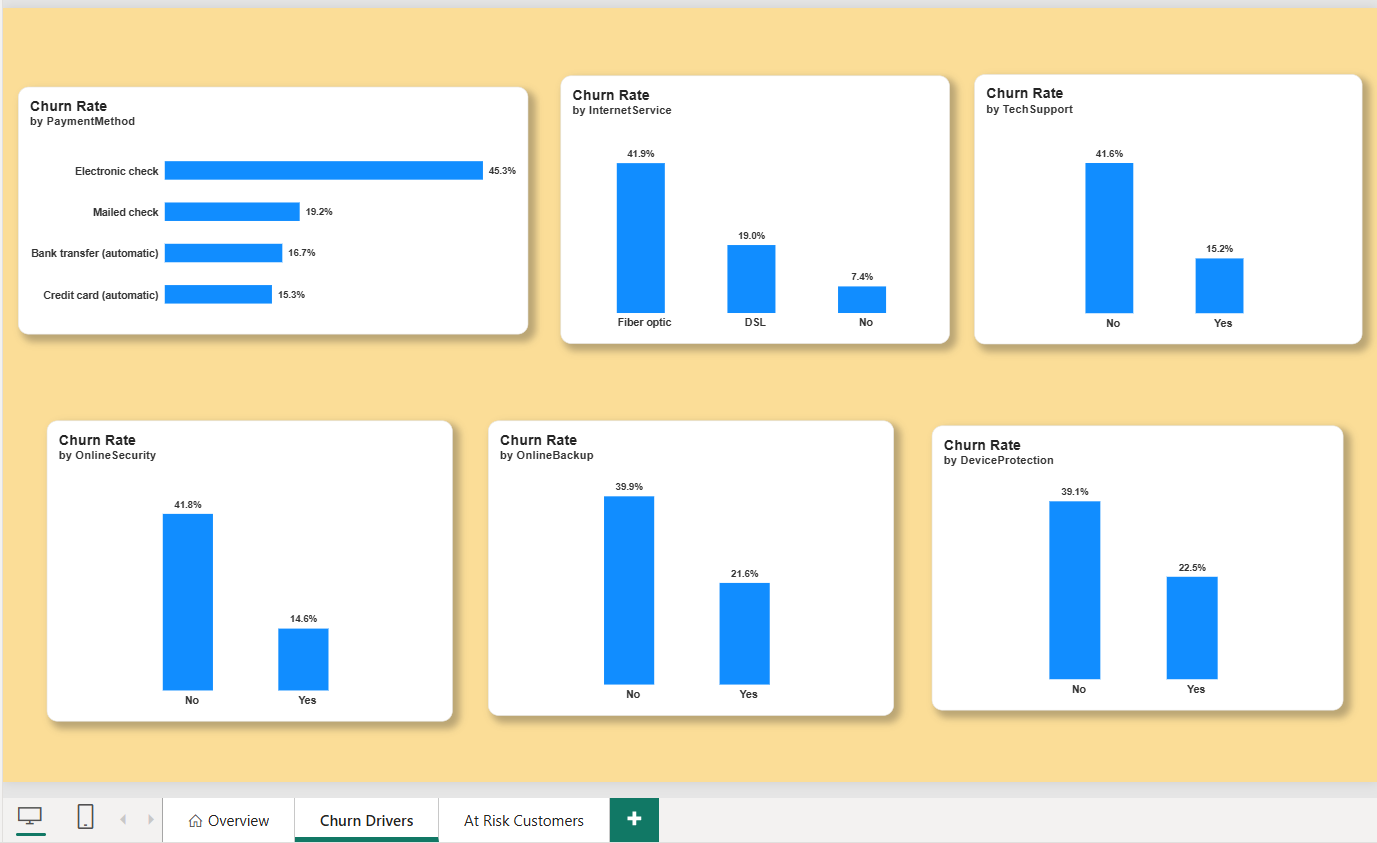

The page's visual inventory and layout, read from the dashboard file:
{"tool":"powerbi","page":{"name":"Churn Drivers","canvas":[1920,1080],"ordinal":1},"visuals":[{"type":"clusteredColumnChart","fields":{"Y":["Churn_risk.Churn Rate"],"Category":["Churn_risk.InternetService"]},"box":[778,94.7,543.4,374.6],"z":0},{"type":"clusteredColumnChart","fields":{"Category":["Churn_risk.TechSupport"],"Y":["Churn_risk.Churn Rate"]},"box":[1354.4,92.6,541.3,376.7],"z":1000},{"type":"clusteredBarChart","fields":{"Category":["Churn_risk.PaymentMethod"],"Y":["Churn_risk.Churn Rate"]},"box":[20.6,109.1,712.2,345.8],"z":2000},{"type":"clusteredColumnChart","fields":{"Y":["Churn_risk.Churn Rate"],"Category":["Churn_risk.OnlineSecurity"]},"box":[61.7,576.3,566,419.9],"z":3000},{"type":"clusteredColumnChart","fields":{"Y":["Churn_risk.Churn Rate"],"Category":["Churn_risk.DeviceProtection"]},"box":[1296.7,582.5,574.3,397.3],"z":4000},{"type":"clusteredColumnChart","fields":{"Y":["Churn_risk.Churn Rate"],"Category":["Churn_risk.OnlineBackup"]},"box":[677.2,576.3,566,411.7],"z":5000}]}

Visuals, with their boxes on the page's 1920x1080 design canvas (x1, y1, x2, y2). These are canvas units, not pixel positions in the 1377x843 screenshot, which may show the page scaled, cropped or inside an application window:
clusteredColumnChart - Churn_risk.Churn Rate x Churn_risk.InternetService: 778,95,1321,469
clusteredColumnChart - Churn_risk.TechSupport x Churn_risk.Churn Rate: 1354,93,1896,469
clusteredBarChart - Churn_risk.PaymentMethod x Churn_risk.Churn Rate: 21,109,733,455
clusteredColumnChart - Churn_risk.Churn Rate x Churn_risk.OnlineSecurity: 62,576,628,996
clusteredColumnChart - Churn_risk.Churn Rate x Churn_risk.DeviceProtection: 1297,582,1871,980
clusteredColumnChart - Churn_risk.Churn Rate x Churn_risk.OnlineBackup: 677,576,1243,988
